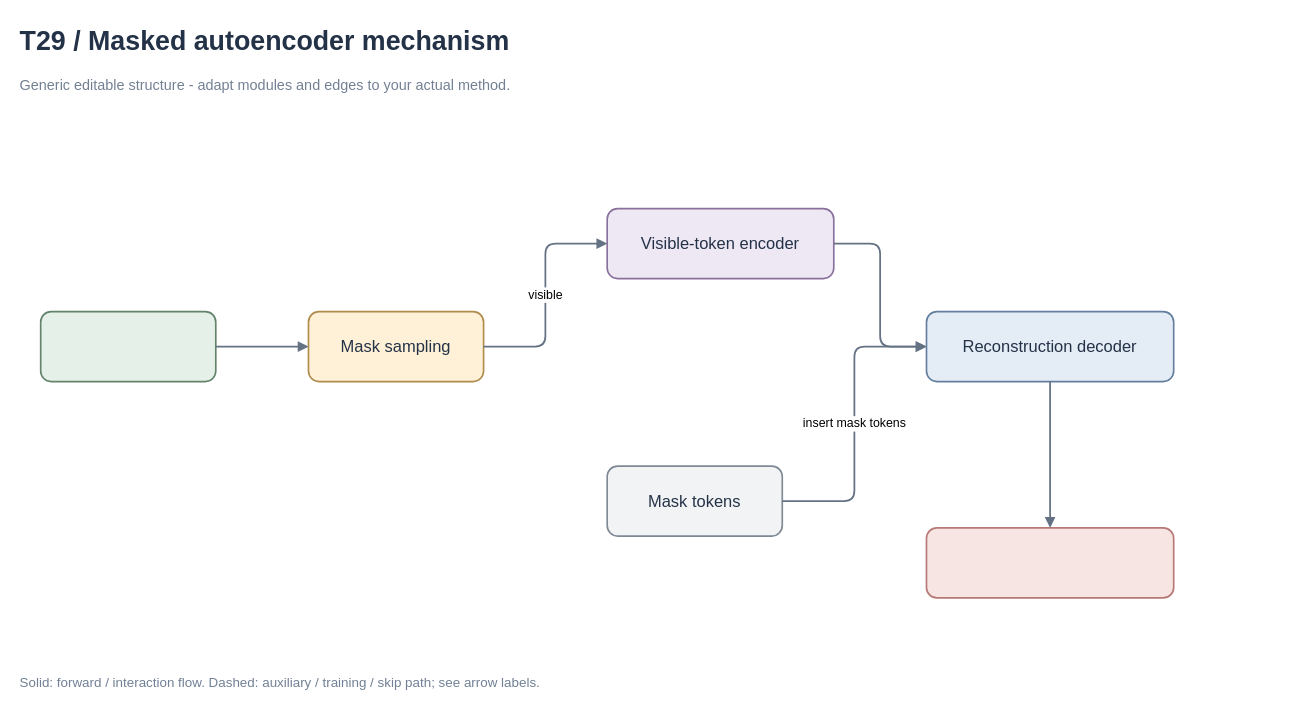
The diagram is 1302 pixels wide and 716 high, and some of its shapes have lost their labels. Here are the shapes that lost their labels. From the top down, the box of each, then its label:
(39, 310, 216, 382): Image patches
(925, 527, 1174, 598): Masked-patch objective
